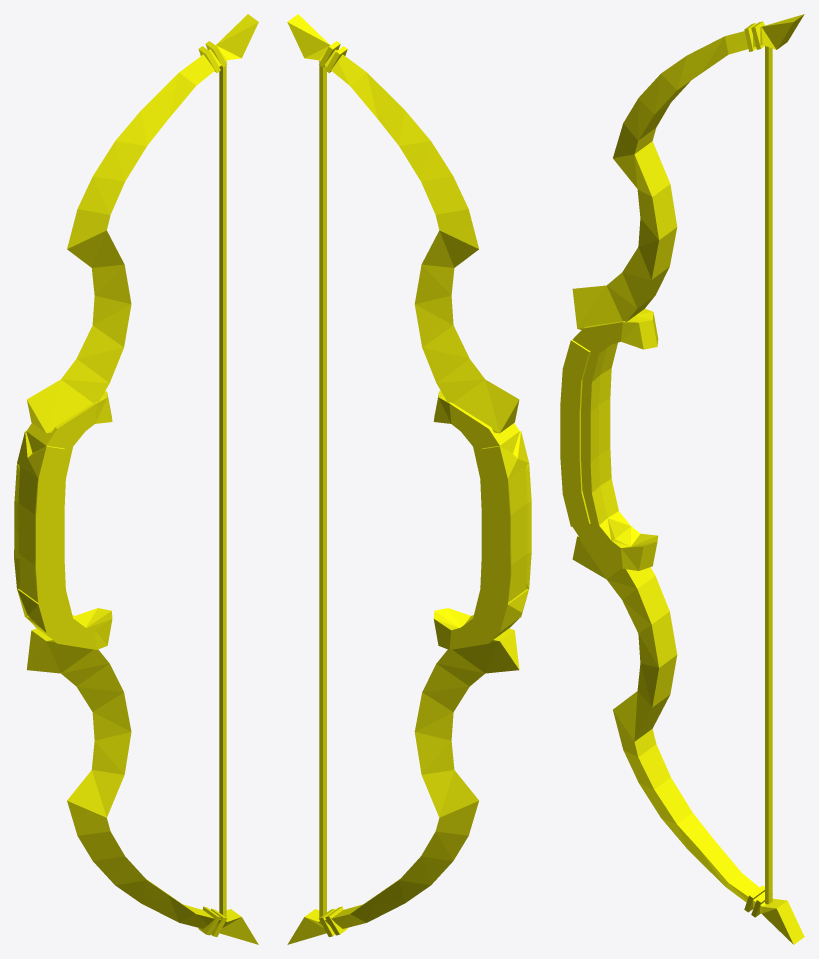
File: _bow_8.glb
3 views of the same model, side by side, from view 1: azimuth 30°, elevation 25°; view 2: azimuth 150°, elevation 25°; view 3: azimuth 330°, elevation 25° (orthographic).
Parts seen in each view (by area): view 1: bow_8; view 2: bow_8; view 3: bow_8.
Boxes of the visible parts, x1=… form: bow_8: x1=14, y1=14, x2=258, y2=944; bow_8: x1=287, y1=14, x2=531, y2=944; bow_8: x1=560, y1=14, x2=804, y2=944.
Size of the model in its own units: 10498 by 40484 by 1705.
